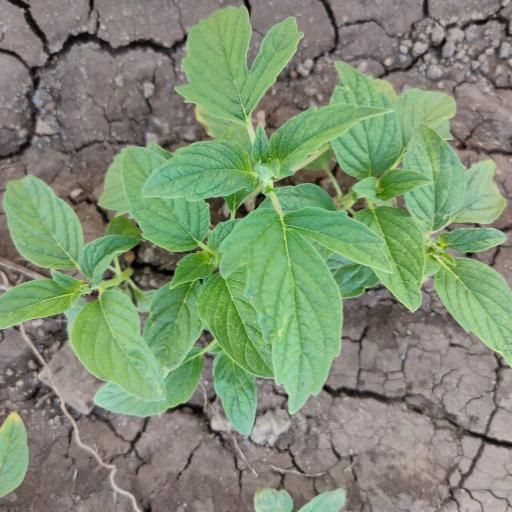crop: (1, 5, 512, 447)
